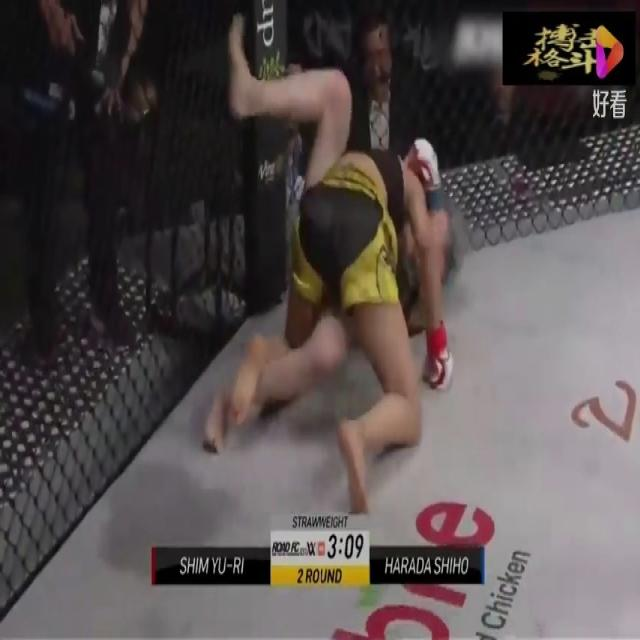fight: (196, 20, 474, 521)
